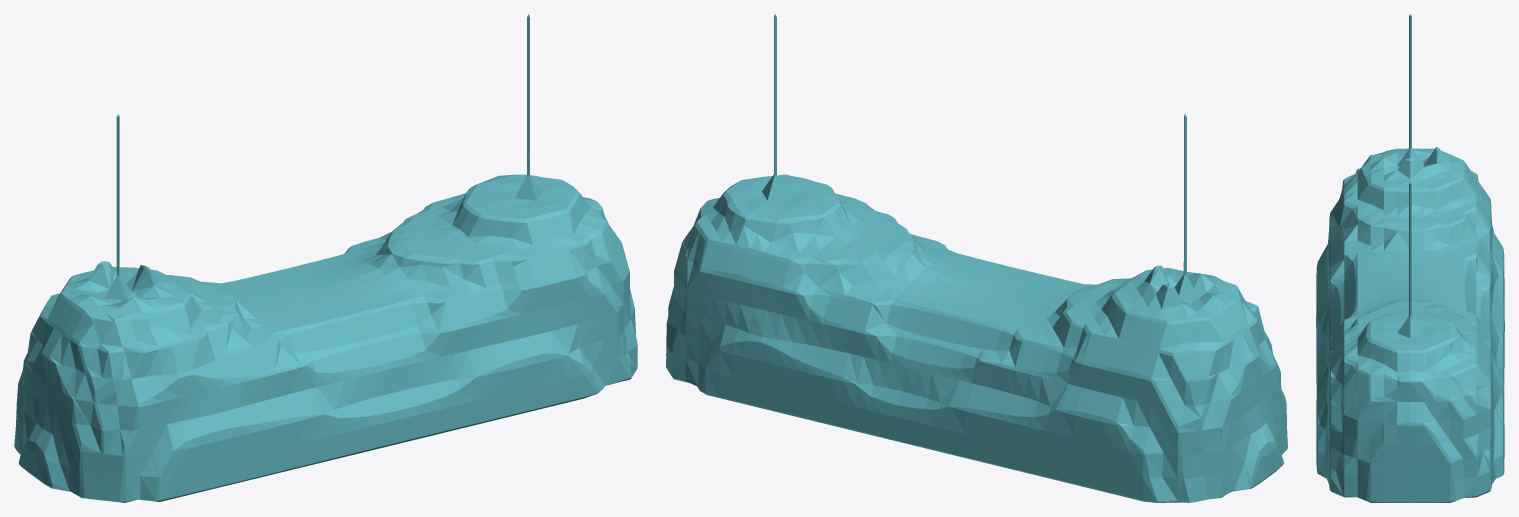
The model's file is cave-c9-0.1.glb.
3 views of the same model, side by side, from view 1: azimuth 30°, elevation 25°; view 2: azimuth 150°, elevation 25°; view 3: azimuth 270°, elevation 25° (orthographic). The views are drawn at different scales.
Parts seen in each view (by area): view 1: geometry_0; view 2: geometry_0; view 3: geometry_0.
Part boxes in pixels (box(x1,y1,x2,y2)): geometry_0: box(14, 14, 637, 502); geometry_0: box(666, 14, 1287, 502); geometry_0: box(1316, 14, 1504, 502).
Bounding box in the file's own units: 162 × 92.26 × 54.74.
